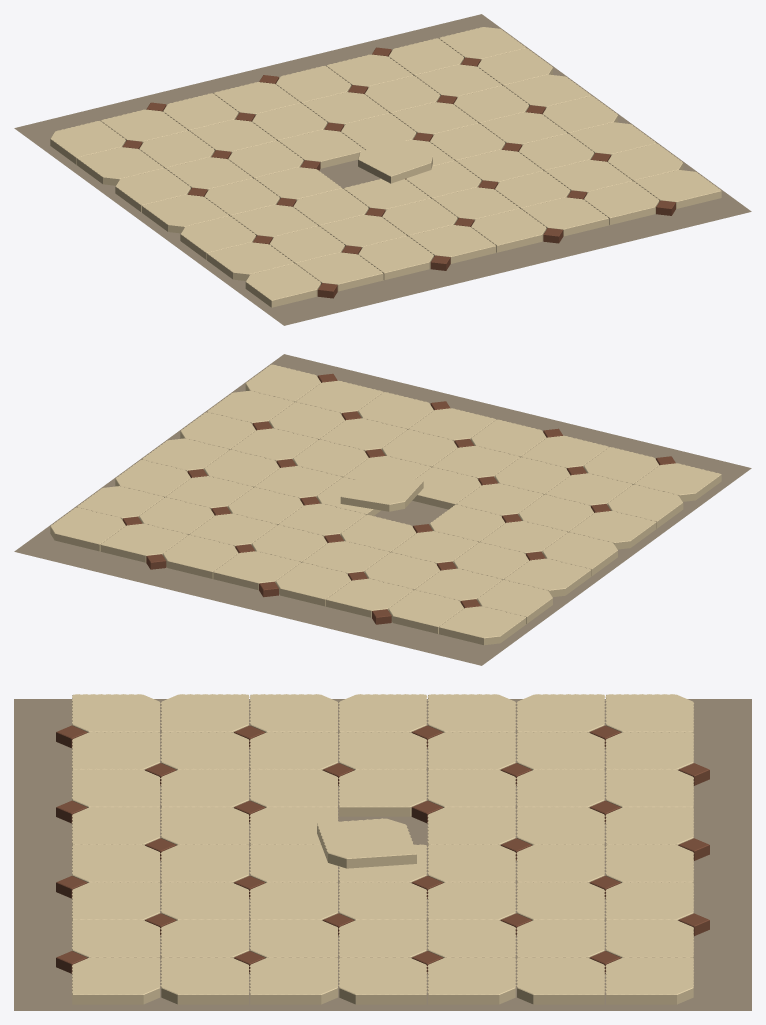
File: terilgan.glb
3 views of the same model, one above another, from view 1: azimuth 30°, elevation 25°; view 2: azimuth 150°, elevation 25°; view 3: azimuth 270°, elevation 25° (orthographic). The views are drawn at different scales.
Visible parts, largest first — view 1: qum, t.027, t, t.003, t.001, t.004, t.002, t.007, t.005, t.006, t.040, t.008 (+44 smaller); view 2: qum, t.048, t.027, t.055, t.049, t.053, t.052, t.054, t.051, t.050, t.016, t.032 (+45 smaller); view 3: qum, t.027, t.007, t.031, t.039, t.015, t.023, t.047, t.055, t.026, t.002, t.034 (+45 smaller).
Part boxes in pixels (bbox=[...]): qum: bbox=[14, 14, 751, 325]; t.027: bbox=[358, 138, 432, 183]; t: bbox=[245, 263, 320, 307]; t.003: bbox=[408, 225, 496, 263]; t.001: bbox=[296, 252, 383, 291]; t.004: bbox=[471, 208, 546, 252]; t.002: bbox=[358, 236, 433, 280]; t.007: bbox=[634, 170, 721, 208]; t.005: bbox=[521, 197, 608, 236]; t.006: bbox=[584, 181, 659, 224]; t.040: bbox=[76, 147, 163, 185]; t.008: bbox=[207, 242, 294, 280]; qum: bbox=[14, 354, 751, 665]; t.048: bbox=[439, 606, 526, 645]; t.027: bbox=[340, 473, 423, 511]; t.055: bbox=[50, 507, 125, 551]; t.049: bbox=[388, 590, 463, 633]; t.053: bbox=[163, 535, 238, 578]; t.052: bbox=[213, 551, 300, 590]; t.054: bbox=[100, 523, 187, 562]; t.051: bbox=[275, 562, 351, 606]; t.050: bbox=[326, 578, 413, 617]; t.016: bbox=[569, 511, 656, 549]; t.032: bbox=[504, 558, 591, 597]; qum: bbox=[14, 699, 751, 1010]; t.027: bbox=[317, 818, 416, 868]; t.007: bbox=[72, 957, 160, 1004]; t.031: bbox=[338, 957, 427, 1004]; t.039: bbox=[427, 957, 516, 1004]; t.015: bbox=[161, 957, 249, 1004]; t.023: bbox=[249, 957, 338, 1004]; t.047: bbox=[516, 957, 604, 1004]; t.055: bbox=[605, 957, 693, 1004]; t.026: bbox=[338, 769, 427, 816]; t.002: bbox=[72, 769, 160, 807]; t.034: bbox=[427, 769, 516, 807].
Bounding box in the file's own units: 1.66 × 0.052 × 1.66.
